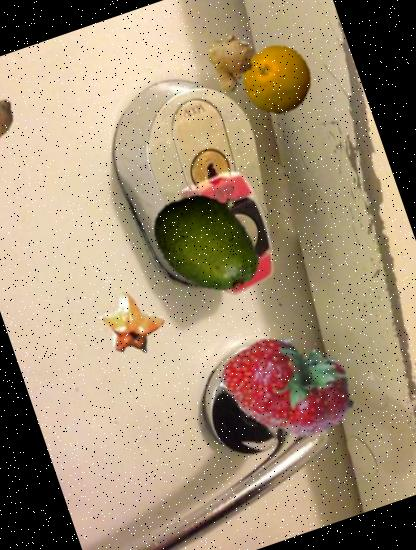Avocado: (136, 167, 284, 314)
Carambula: (88, 282, 172, 366)
Ginger: (190, 25, 266, 101)
Grapefruit: (232, 36, 322, 126)
Potato: (0, 86, 31, 160)
Strawberry: (204, 298, 374, 468)
